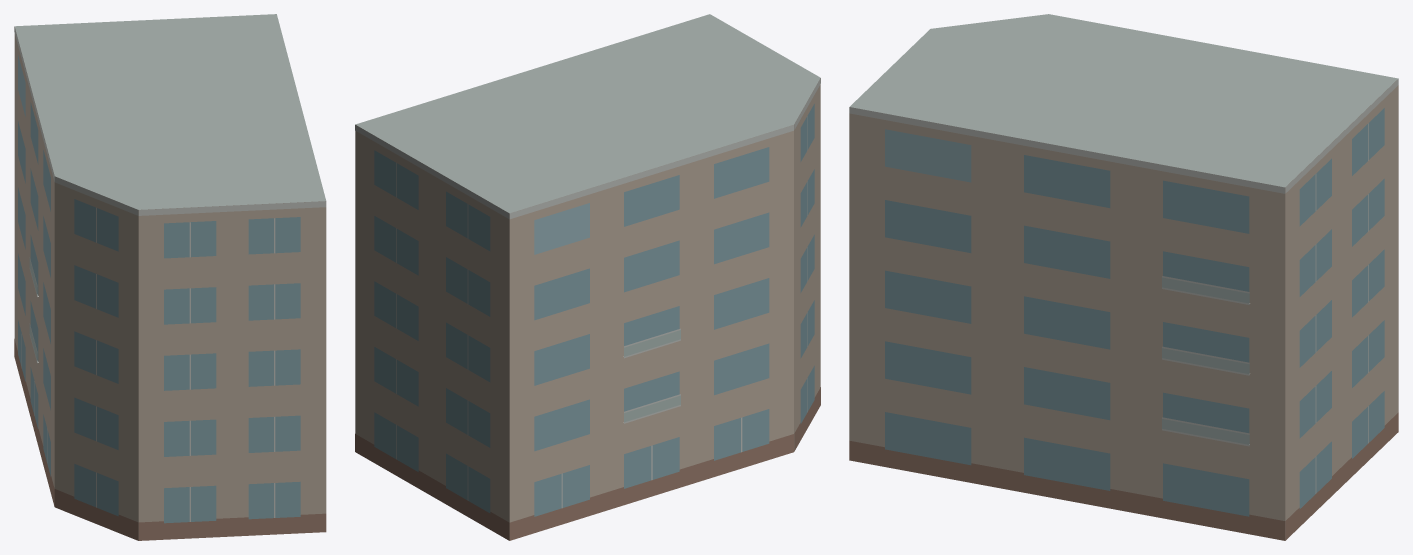
Rendered from survey-upis-33020896.glb.
The picture shows the model from 3 angles, left to right: view 1: azimuth 30°, elevation 25°; view 2: azimuth 150°, elevation 25°; view 3: azimuth 270°, elevation 25°; orthographic projection. The views are drawn at different scales.
Visible parts, largest first — view 1: survey-upis-33020896.tmp; view 2: survey-upis-33020896.tmp; view 3: survey-upis-33020896.tmp.
Part boxes in pixels (bbox=[...]): survey-upis-33020896.tmp: bbox=[14, 14, 326, 540]; survey-upis-33020896.tmp: bbox=[355, 14, 820, 540]; survey-upis-33020896.tmp: bbox=[849, 14, 1398, 540].
Size of the model in its own units: 14.01 by 13.3 by 18.74.
